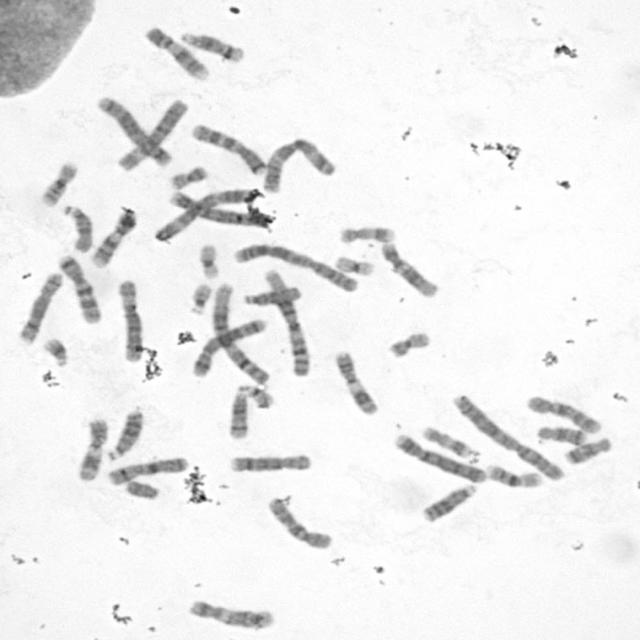A1: (209, 281, 271, 385), (260, 269, 313, 378)
A2: (450, 392, 566, 482), (231, 241, 359, 293)
A3: (151, 187, 260, 243), (262, 138, 338, 194)
B4: (392, 434, 486, 484), (166, 190, 273, 230)
B5: (94, 95, 173, 168), (190, 317, 266, 378)
C10: (266, 496, 334, 552), (526, 394, 604, 436)
C11: (334, 352, 379, 416), (75, 417, 107, 482)
C12: (379, 241, 440, 299), (185, 598, 275, 630)
C6: (116, 95, 190, 172), (119, 280, 142, 363)
C7: (190, 124, 266, 178), (57, 254, 102, 326)
C8: (16, 272, 65, 344), (228, 454, 314, 474)
C9: (142, 25, 210, 81), (89, 213, 138, 268)
D13: (419, 484, 478, 524), (106, 408, 145, 460)
D14: (180, 29, 247, 65), (228, 382, 250, 440)
D15: (62, 203, 95, 254), (243, 286, 303, 308)
E16: (40, 162, 80, 209), (486, 464, 544, 491)
E17: (420, 427, 474, 459), (338, 225, 397, 244)
E18: (562, 438, 613, 467), (534, 423, 588, 448)
F19: (333, 254, 375, 278), (199, 242, 221, 280)
F20: (386, 331, 429, 361), (169, 166, 209, 190)
G21: (42, 338, 69, 368)
G22: (187, 284, 213, 316), (245, 385, 276, 409)
X: (106, 456, 192, 487)
Y: (124, 479, 160, 500)
